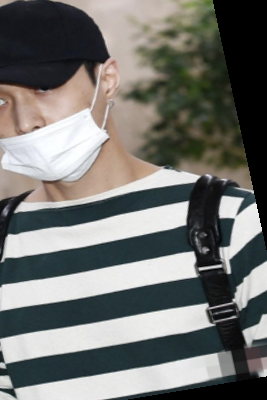mask_weared_incorrect: (1, 1, 123, 185)
